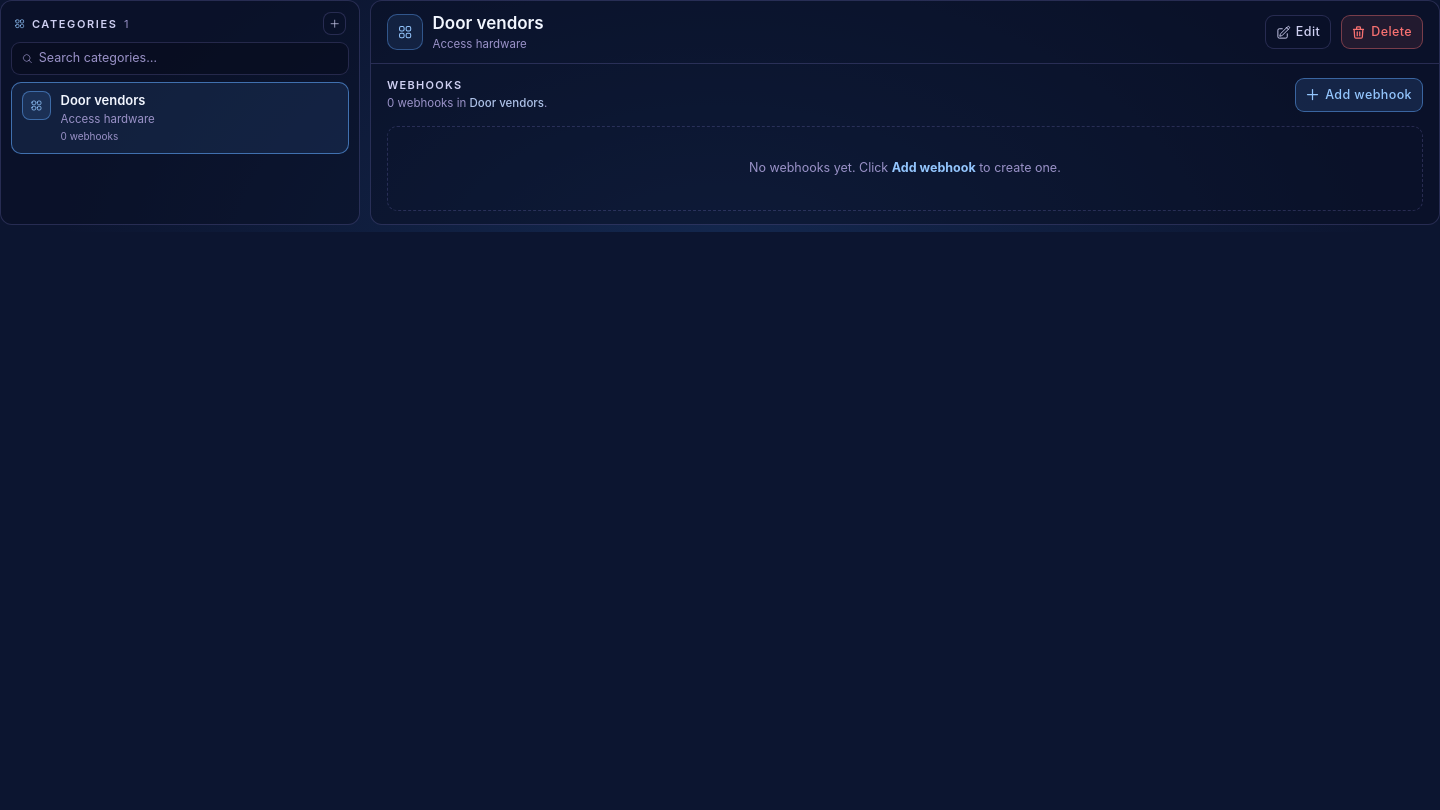
Scenario: deleting a category › names the category and its webhooks in the warning, since both go
Click the button titled "Delete category" at x=1382, y=32, box [1341, 15, 1423, 49]
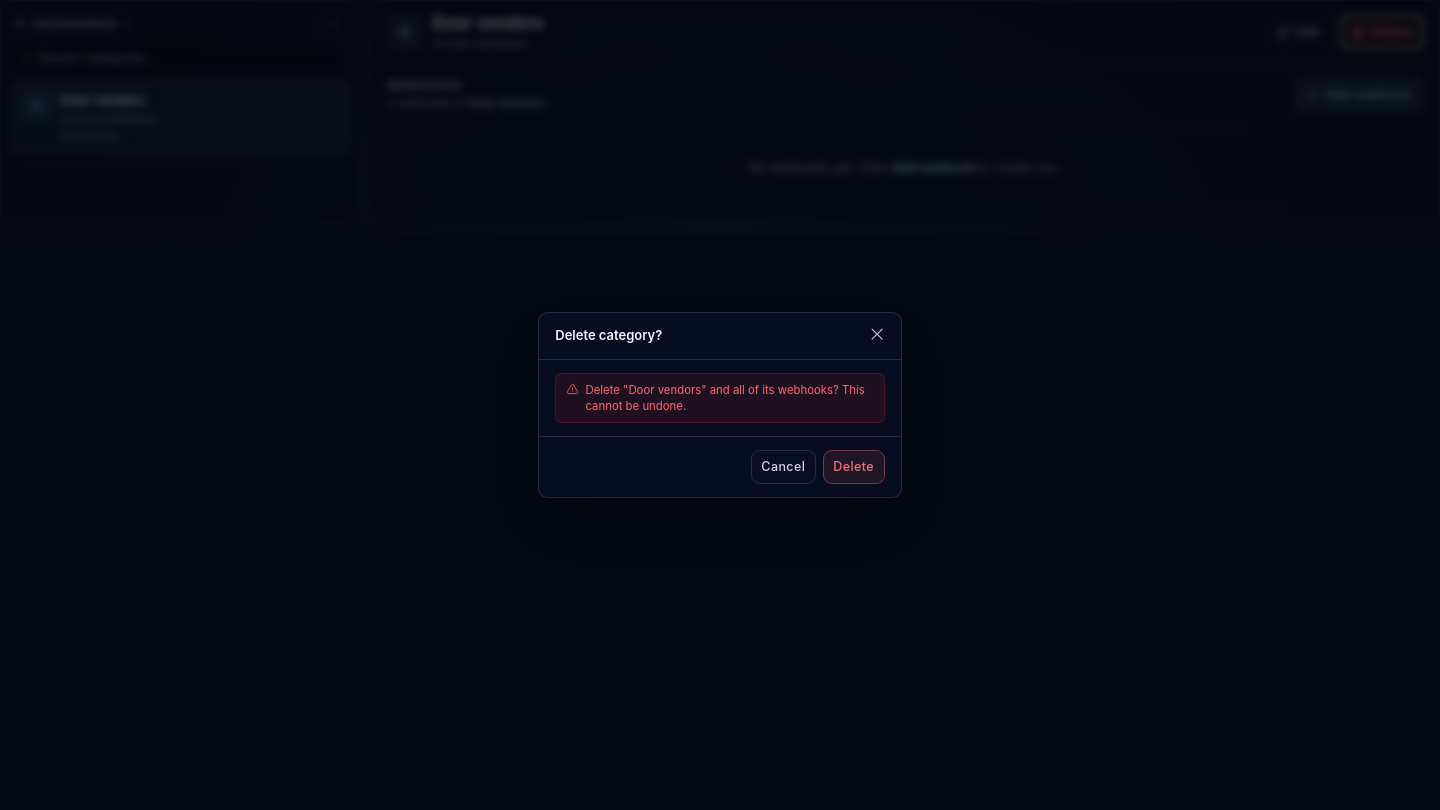
Check: the text "Delete \"Door vendors\" and all of its webhooks" is shown, box [586, 383, 865, 413]
